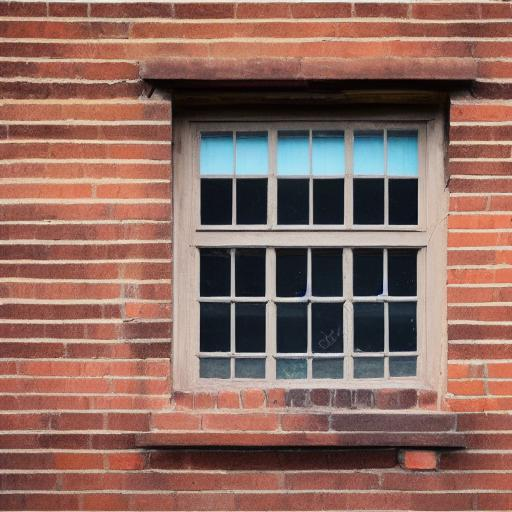Window: (137, 55, 487, 473)
